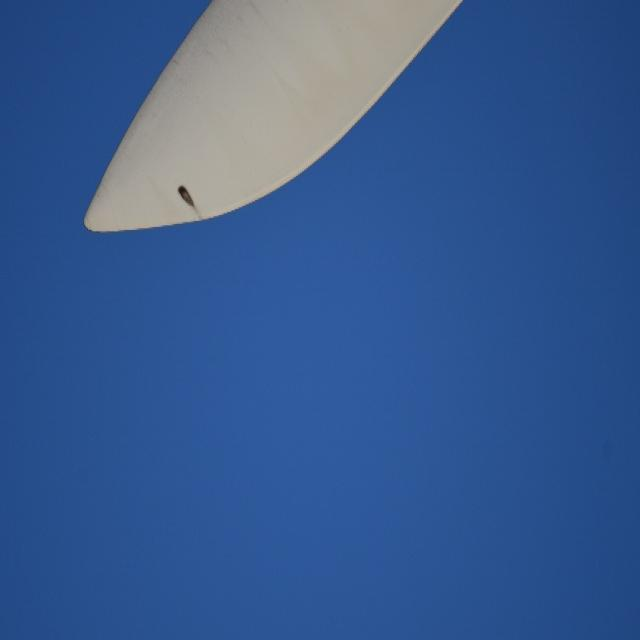Burn Mark: (177, 182, 197, 212)
